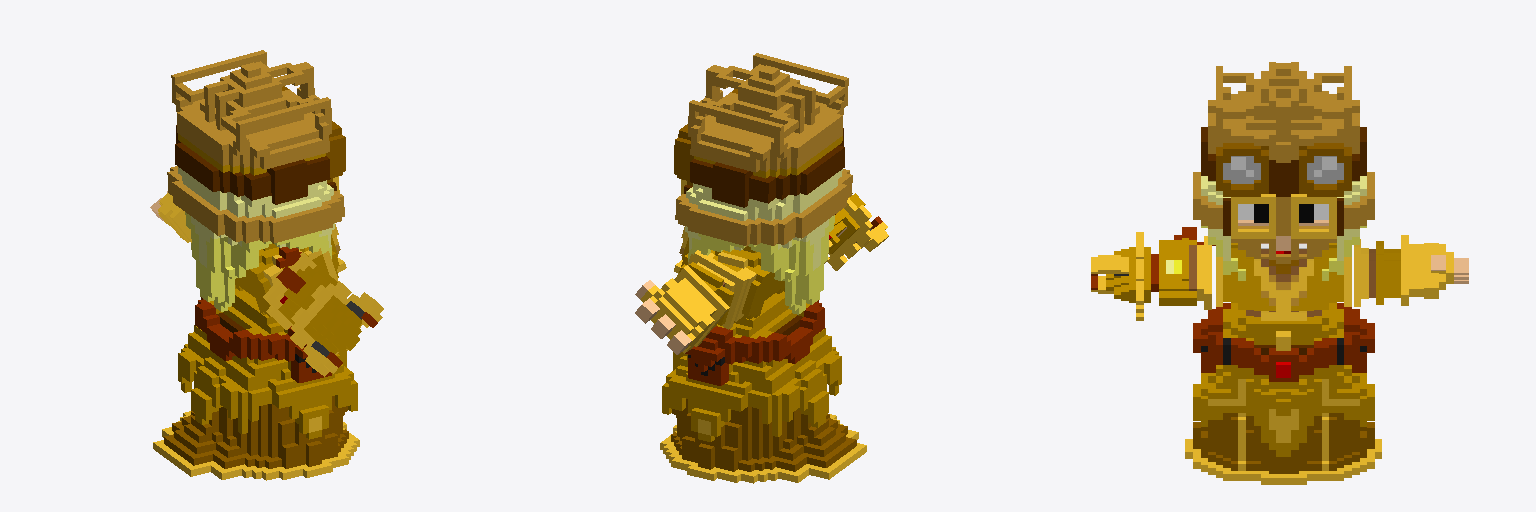
3 views of the same model, side by side, from view 1: azimuth 30°, elevation 25°; view 2: azimuth 150°, elevation 25°; view 3: azimuth 270°, elevation 25° (orthographic).
Parts seen in each view (by area): view 1: Model; view 2: Model; view 3: Model.
Part boxes in pixels (left/top/right/bottom): Model: left=150, top=50, right=383, bottom=480; Model: left=635, top=53, right=888, bottom=483; Model: left=1091, top=62, right=1468, bottom=484.
Bounding box in the file's own units: 25 × 54.96 × 49.97.
1 materials, 1 textured.